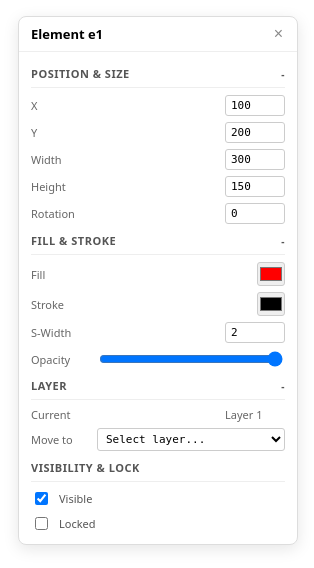
Test: PropertyPanel › dismisses and shows "Show Properties" button on close
Click the button named "Close property panel".
click(278, 34)  # box [272,26,285,42]
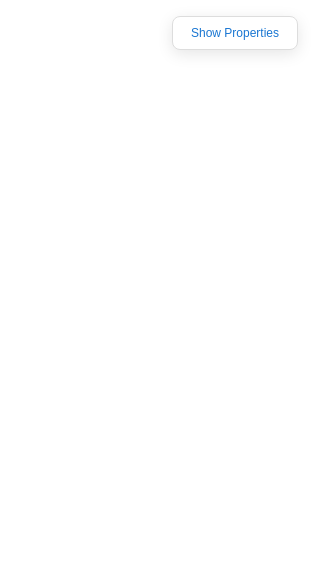
Expected: the text "Show Properties" is shown, [185,25,285,41]
